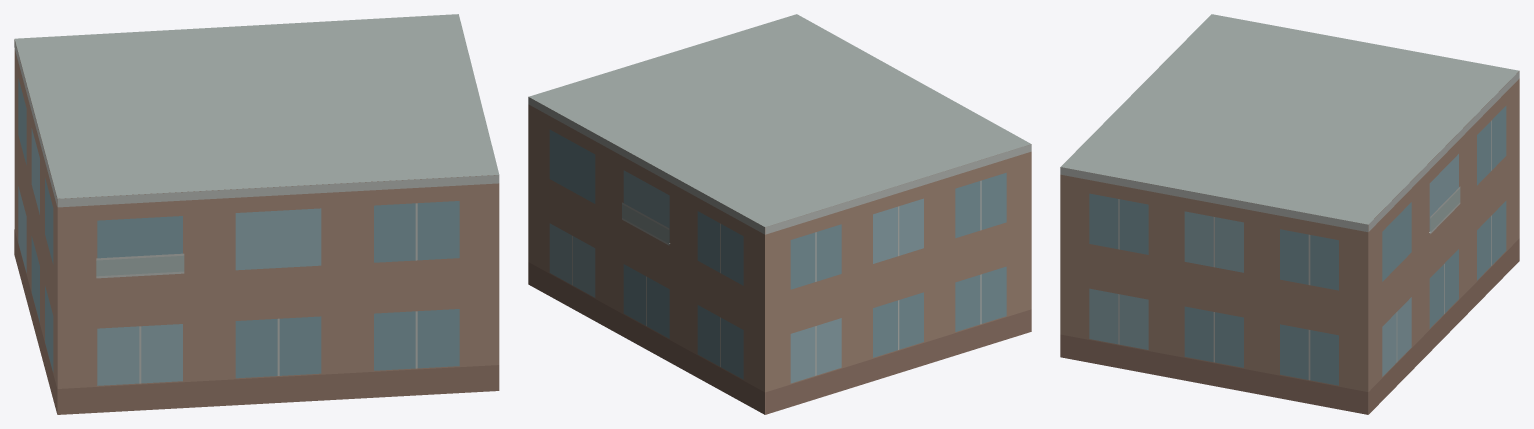
File: survey-upis-32654676.glb
The picture shows the model from 3 angles, left to right: view 1: azimuth 30°, elevation 25°; view 2: azimuth 150°, elevation 25°; view 3: azimuth 270°, elevation 25°; orthographic projection. The views are drawn at different scales.
Parts seen in each view (by area): view 1: survey-upis-32654676.tmp; view 2: survey-upis-32654676.tmp; view 3: survey-upis-32654676.tmp.
Boxes of the visible parts, bbox=[...] form: survey-upis-32654676.tmp: bbox=[14, 14, 499, 414]; survey-upis-32654676.tmp: bbox=[528, 14, 1031, 414]; survey-upis-32654676.tmp: bbox=[1060, 14, 1519, 414].
Size of the model in its own units: 14.5 by 6.1 by 13.35.
